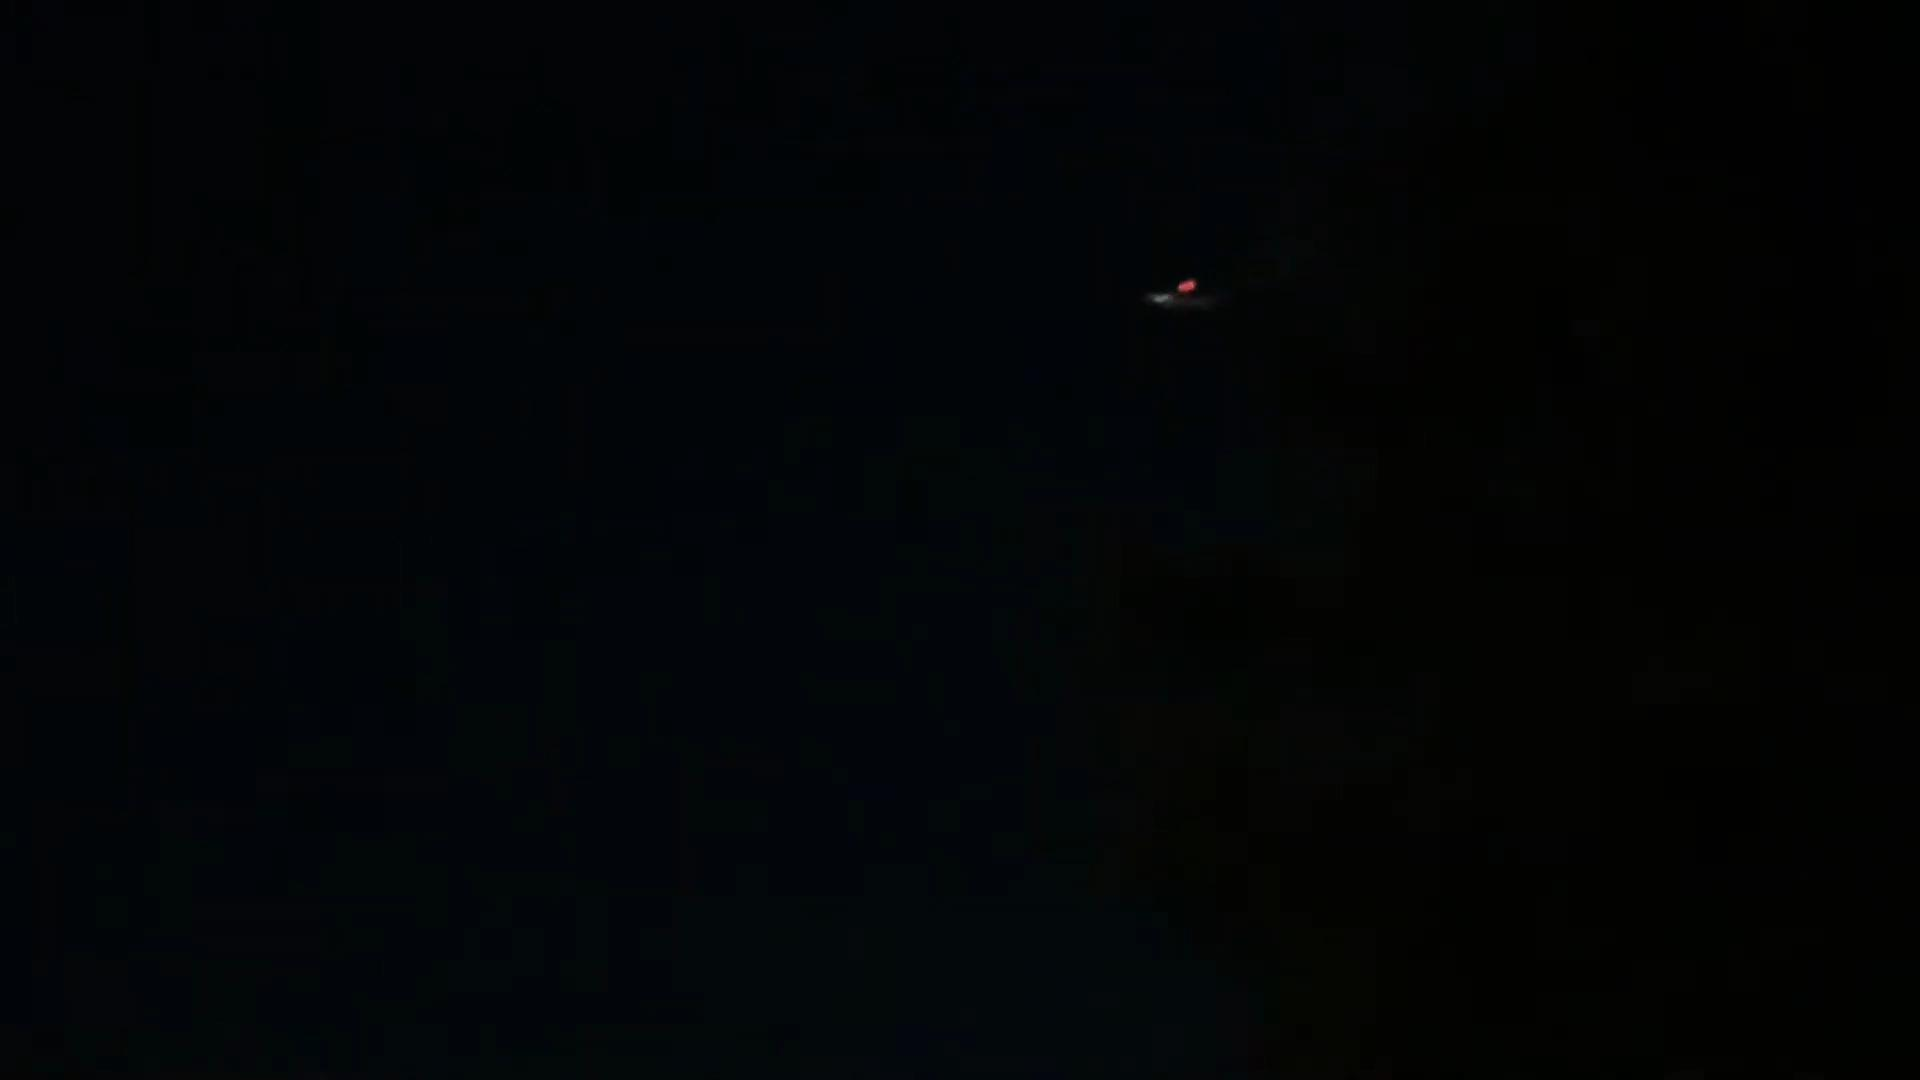Plane: (1081, 264, 1262, 324)
